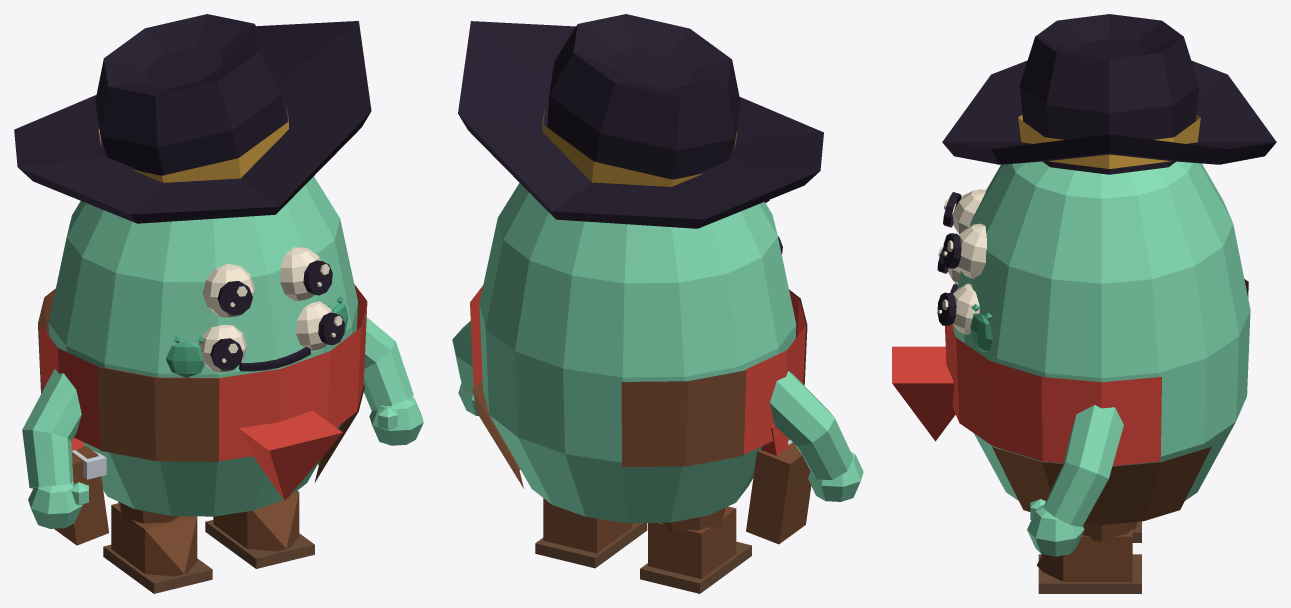
Rendered from Char_Native_Outlaw.obj.
3 renders of one model, left to right at view 1: azimuth 30°, elevation 25°; view 2: azimuth 150°, elevation 25°; view 3: azimuth 270°, elevation 25°, orthographic. The views are drawn at different scales.
Visible parts, largest first — view 1: Char_Native_Outlaw_Body, Char_Native_Outlaw_Head, Char_Native_Outlaw_Arm_R, Char_Native_Outlaw_Leg_R, Char_Native_Outlaw_Arm_L, Char_Native_Outlaw_Leg_L; view 2: Char_Native_Outlaw_Body, Char_Native_Outlaw_Leg_R, Char_Native_Outlaw_Arm_R, Char_Native_Outlaw_Leg_L, Char_Native_Outlaw_Arm_L; view 3: Char_Native_Outlaw_Body, Char_Native_Outlaw_Arm_L, Char_Native_Outlaw_Leg_L, Char_Native_Outlaw_Head.
Boxes of the visible parts, bbox=[...] form: Char_Native_Outlaw_Body: bbox=[14, 14, 371, 545]; Char_Native_Outlaw_Head: bbox=[166, 247, 348, 377]; Char_Native_Outlaw_Arm_R: bbox=[22, 368, 88, 528]; Char_Native_Outlaw_Leg_R: bbox=[103, 502, 212, 593]; Char_Native_Outlaw_Arm_L: bbox=[363, 317, 423, 445]; Char_Native_Outlaw_Leg_L: bbox=[205, 490, 314, 568]; Char_Native_Outlaw_Body: bbox=[458, 14, 823, 544]; Char_Native_Outlaw_Leg_R: bbox=[640, 506, 751, 593]; Char_Native_Outlaw_Arm_R: bbox=[770, 371, 863, 501]; Char_Native_Outlaw_Leg_L: bbox=[535, 498, 647, 568]; Char_Native_Outlaw_Arm_L: bbox=[452, 321, 478, 415]; Char_Native_Outlaw_Body: bbox=[892, 14, 1276, 524]; Char_Native_Outlaw_Arm_L: bbox=[1027, 405, 1123, 556]; Char_Native_Outlaw_Leg_L: bbox=[1036, 522, 1141, 593]; Char_Native_Outlaw_Head: bbox=[937, 189, 992, 351].
Size of the model in its own units: 1.2 by 1.5 by 1.
